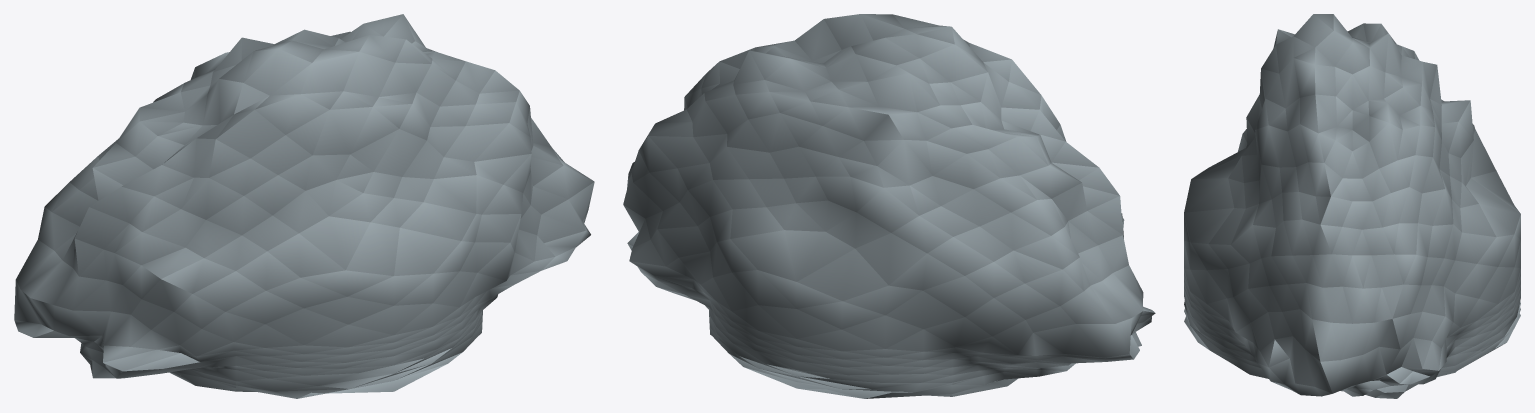
File: rock_outcrop_c.glb
3 views of the same model, side by side, from view 1: azimuth 30°, elevation 25°; view 2: azimuth 150°, elevation 25°; view 3: azimuth 270°, elevation 25° (orthographic). The views are drawn at different scales.
Parts seen in each view (by area): view 1: rock_outcrop_c; view 2: rock_outcrop_c; view 3: rock_outcrop_c.
Boxes of the visible parts, left/top/right/bottom form: rock_outcrop_c: left=14, top=14, right=594, bottom=398; rock_outcrop_c: left=623, top=14, right=1155, bottom=398; rock_outcrop_c: left=1184, top=14, right=1520, bottom=398.
Size of the model in its own units: 3.67 by 1.98 by 2.1.
1 material, 1 textured.
